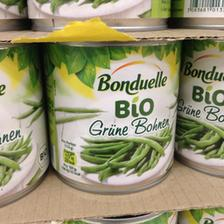Bohnen: (42, 41, 177, 196), (0, 44, 38, 204), (181, 38, 223, 178)
